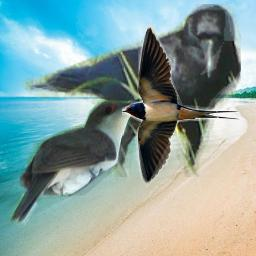Crow: (22, 4, 241, 177)
Cuckoo: (8, 96, 153, 226)
Swallow: (122, 25, 242, 187)
